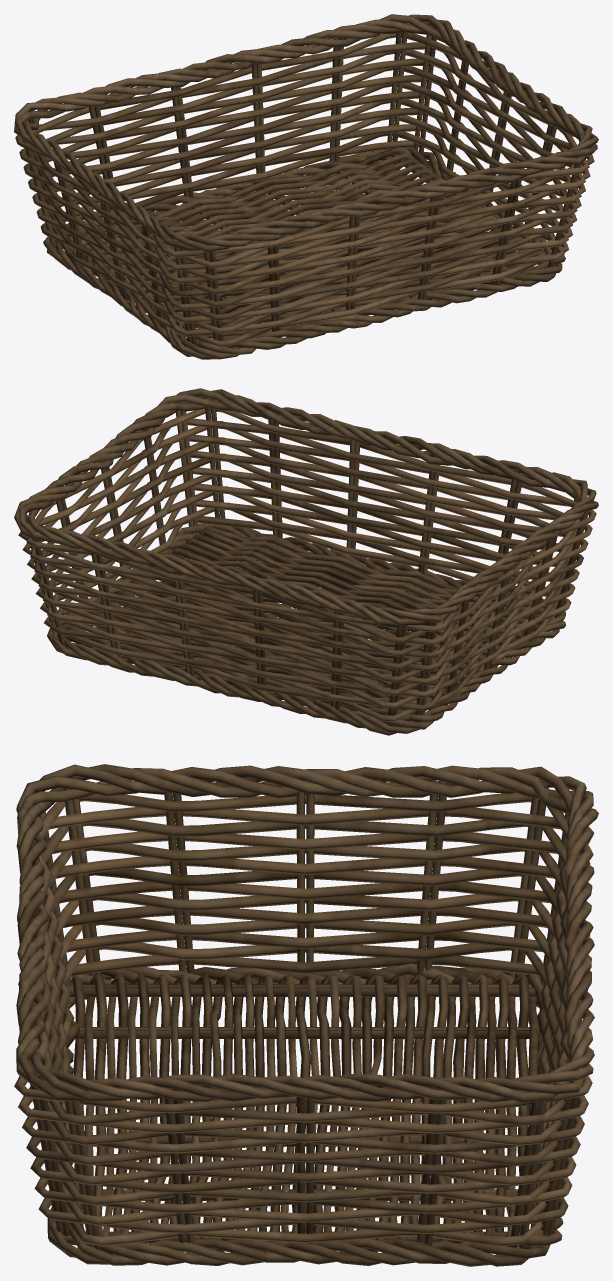
File: wicker_basket_01.glb
3 renders of one model, top to bottom at view 1: azimuth 30°, elevation 25°; view 2: azimuth 150°, elevation 25°; view 3: azimuth 270°, elevation 25°, orthographic. The views are drawn at different scales.
Parts seen in each view (by area): view 1: wicker_basket_01; view 2: wicker_basket_01; view 3: wicker_basket_01.
Part boxes in pixels (x1=…): wicker_basket_01: x1=14, y1=14, x2=598, y2=359; wicker_basket_01: x1=14, y1=388, x2=598, y2=735; wicker_basket_01: x1=14, y1=764, x2=598, y2=1266.
Bounding box in the file's own units: 0.3832 × 0.1174 × 0.295.
Materials: 1 (1 with a texture image).
